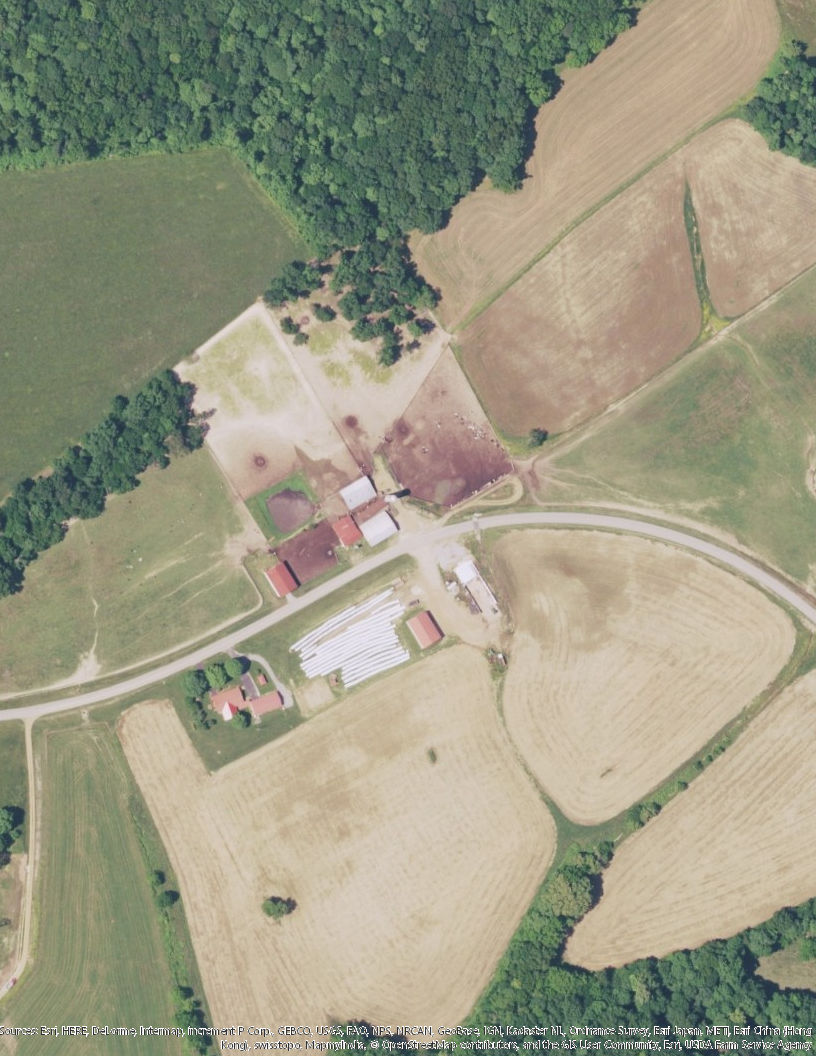cafo: (327, 472, 404, 550)
